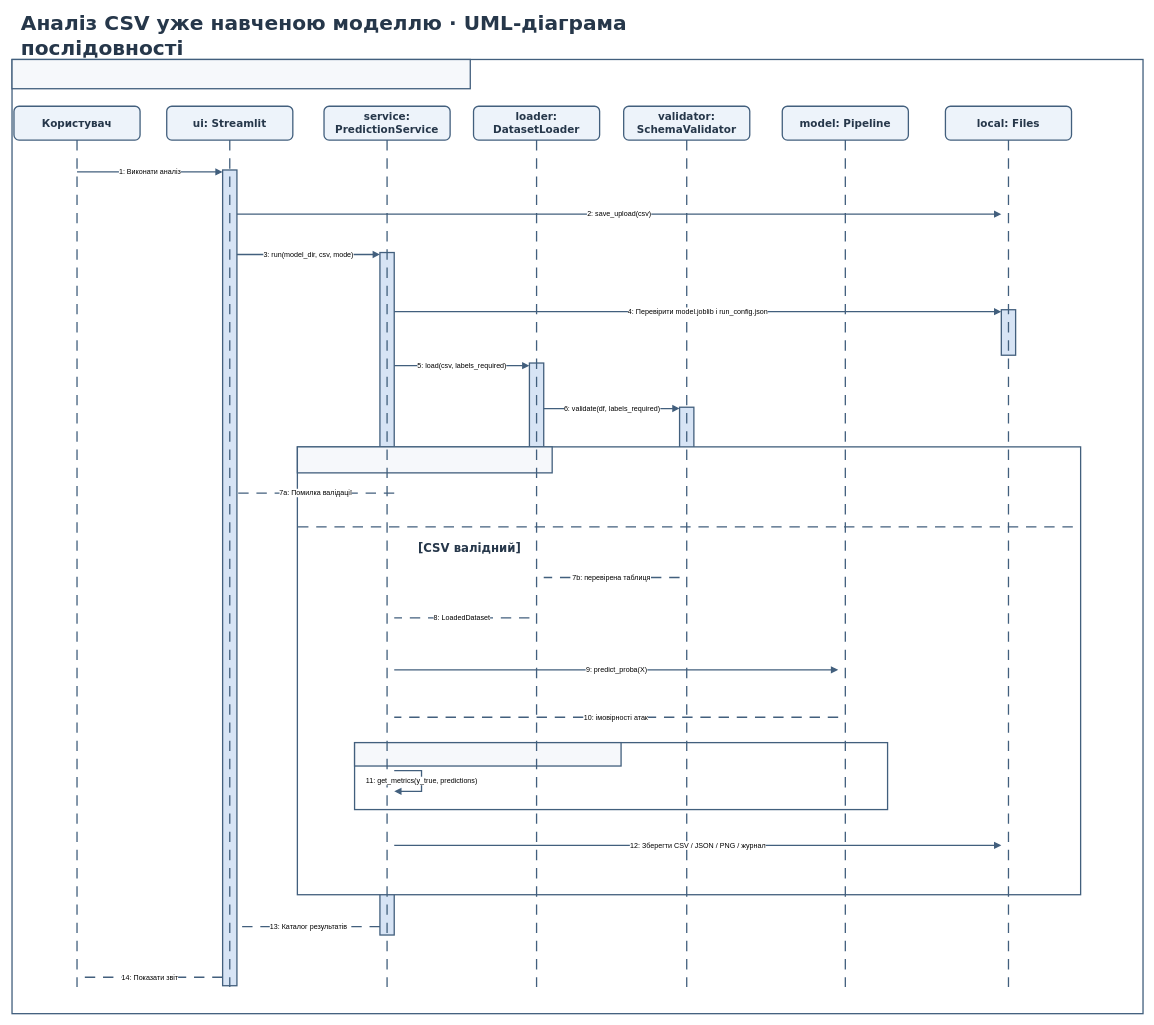
Image size: 1154x1025. Some labels were removed from this diagram. The centre of each missing label's shape, as x and y in pixels:
"alt [CSV не проходить перевірку]" goes at pixel 424 459.
"opt [require_labels = true]" goes at pixel 487 754.
"sd Аналіз CSV та побудова звіту" goes at pixel 241 73.
